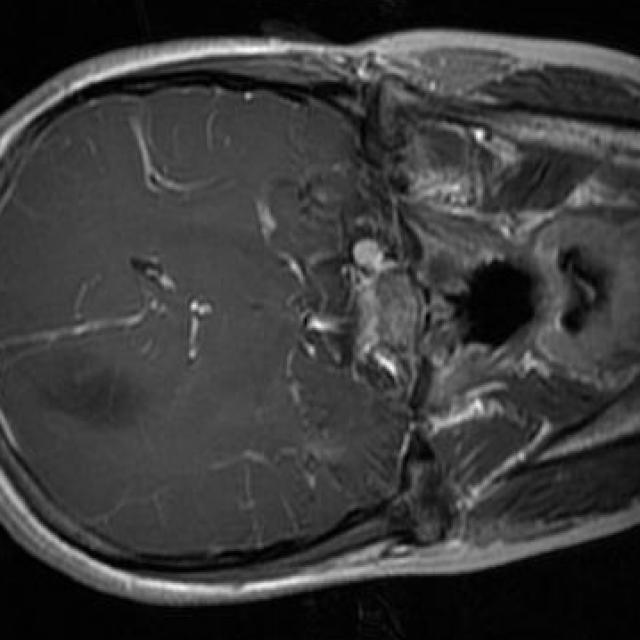glioma: (37, 353, 146, 426)
